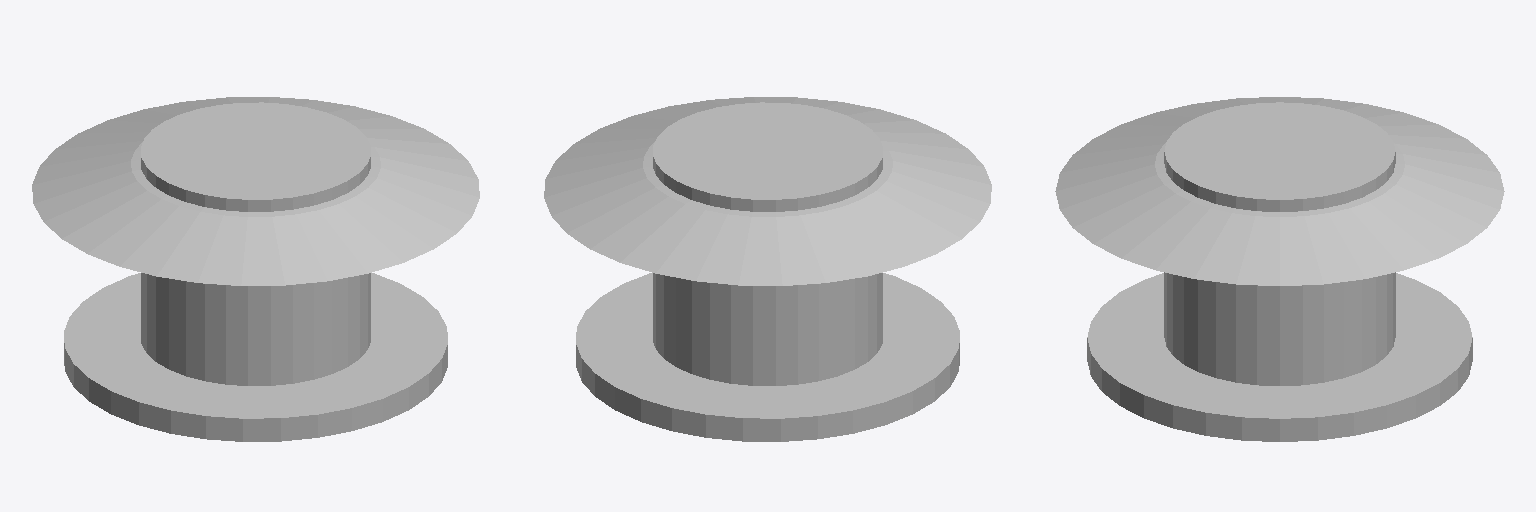
The model's file is bumper_round.obj.
3 renders of one model, left to right at view 1: azimuth 30°, elevation 25°; view 2: azimuth 150°, elevation 25°; view 3: azimuth 270°, elevation 25°, orthographic.
Parts seen in each view (by area): view 1: Sphere, Cylinder.001, Cylinder; view 2: Sphere, Cylinder.001, Cylinder; view 3: Sphere, Cylinder.001, Cylinder.
Boxes of the visible parts, box(x1,y1,x2,y2) form: Sphere: box(32, 97, 479, 285); Cylinder.001: box(141, 102, 370, 385); Cylinder: box(64, 273, 447, 441); Sphere: box(544, 97, 991, 285); Cylinder.001: box(653, 102, 882, 385); Cylinder: box(576, 273, 959, 441); Sphere: box(1055, 97, 1504, 285); Cylinder.001: box(1164, 102, 1395, 385); Cylinder: box(1087, 273, 1472, 441).
Size of the model in its own units: 0.699 by 0.36 by 0.699.